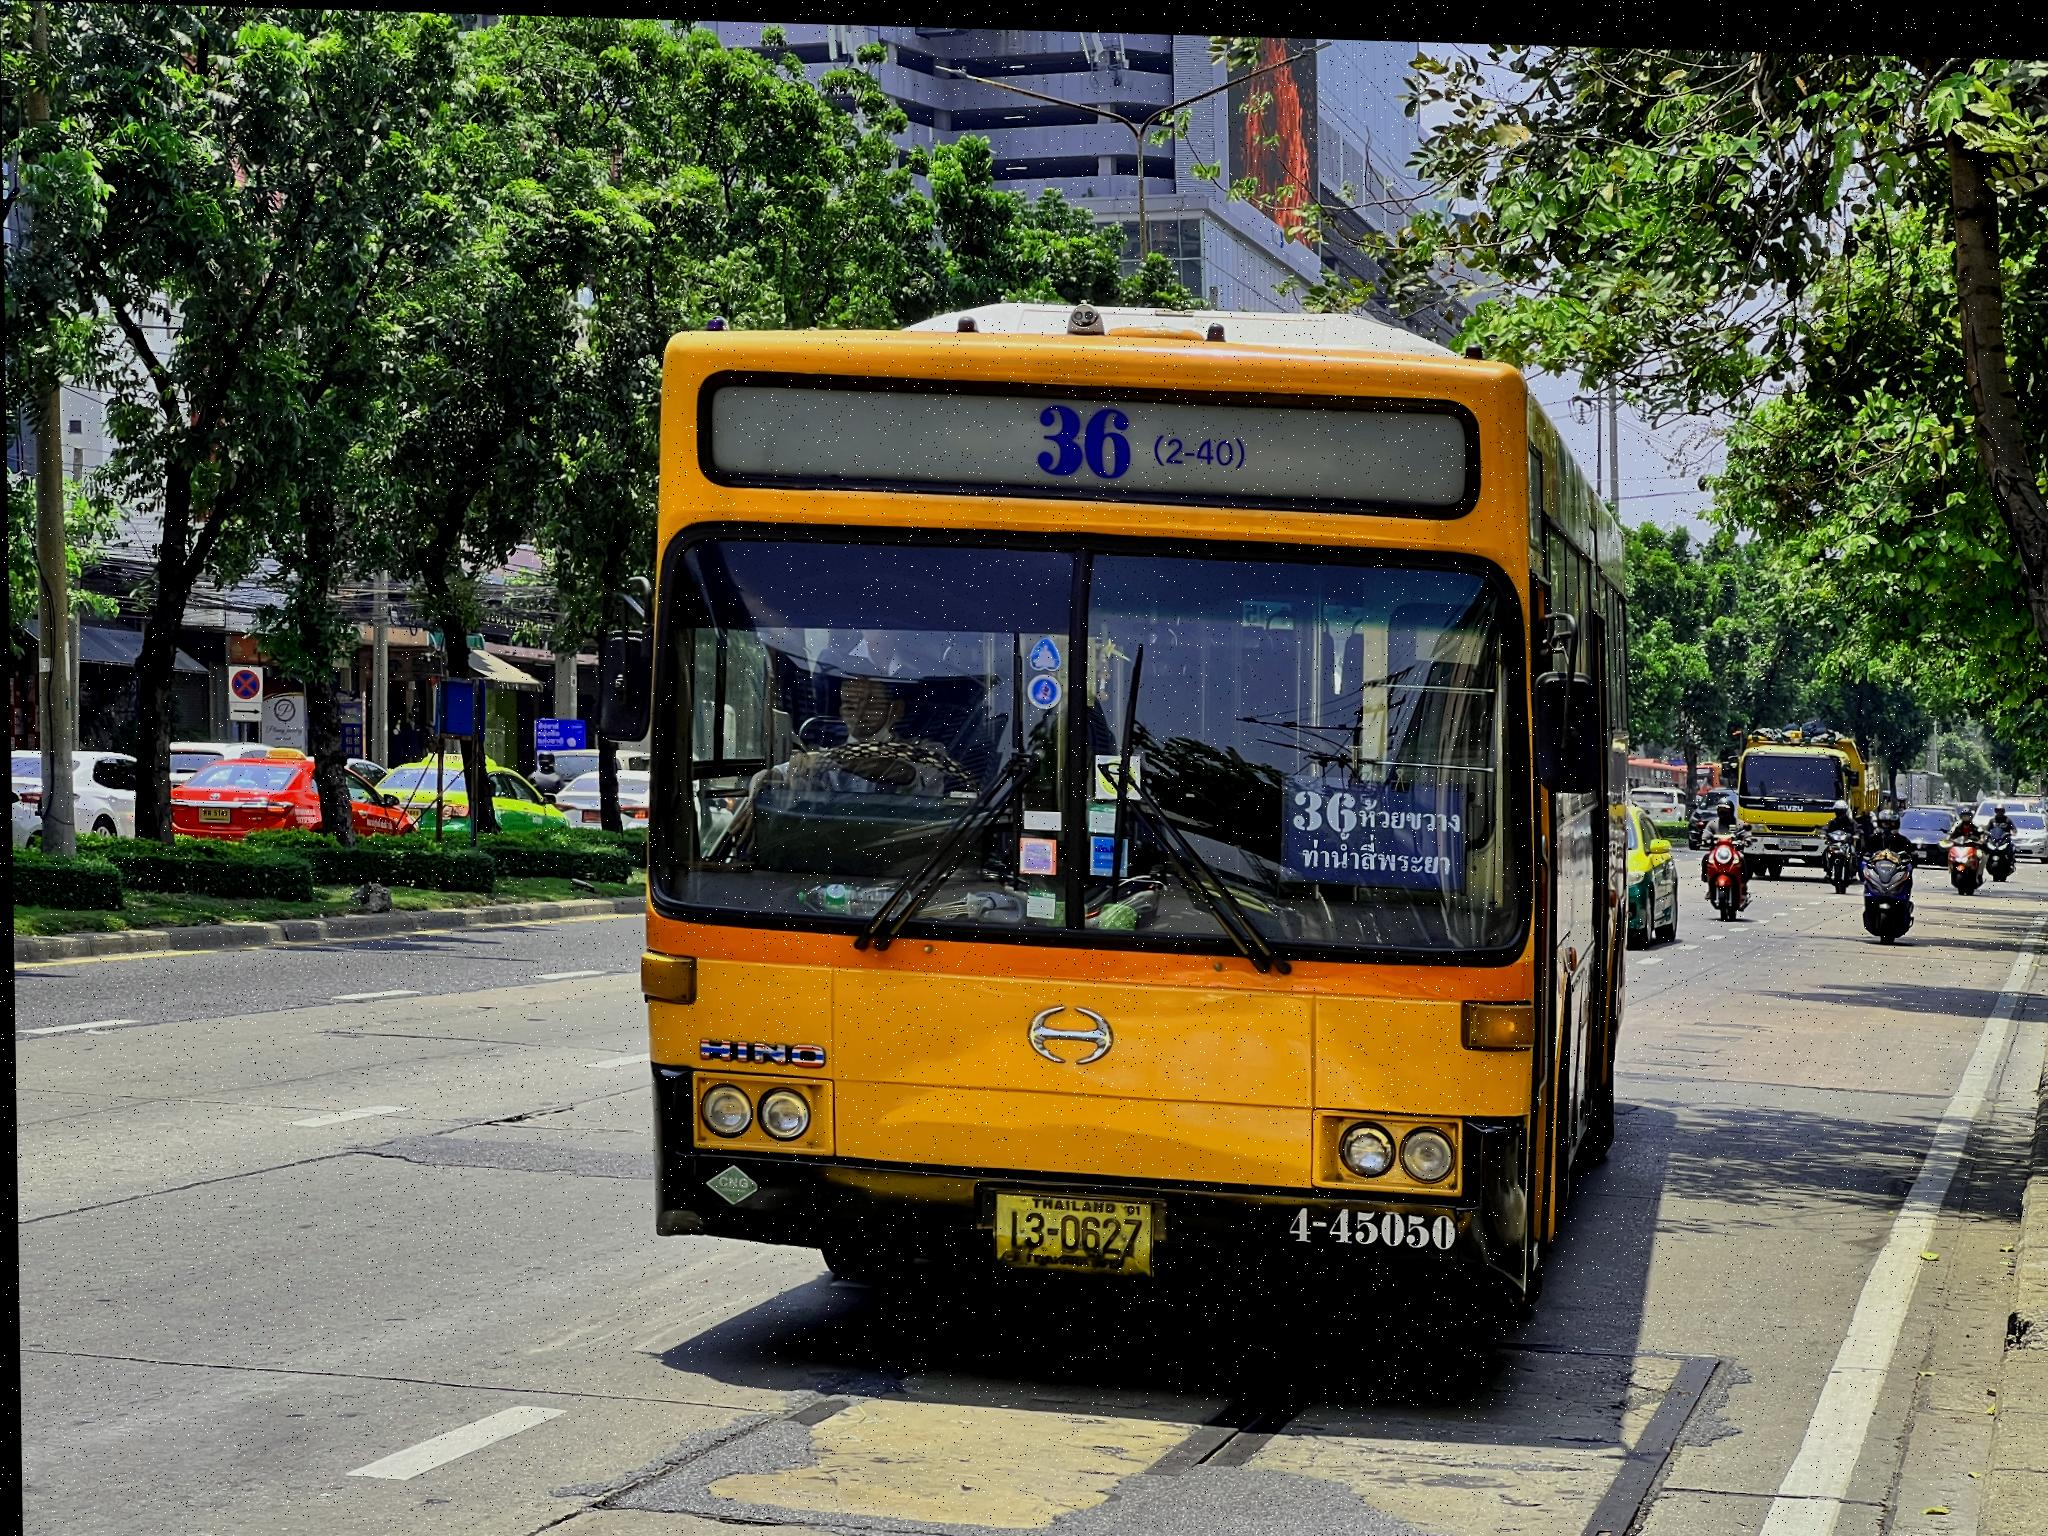BMTA-bus: (634, 300, 1627, 1318)
Bus Line Number: (1019, 379, 1256, 490)
Bus Side Number: (1269, 1187, 1469, 1252)
Destination Sign: (1274, 770, 1469, 878)
